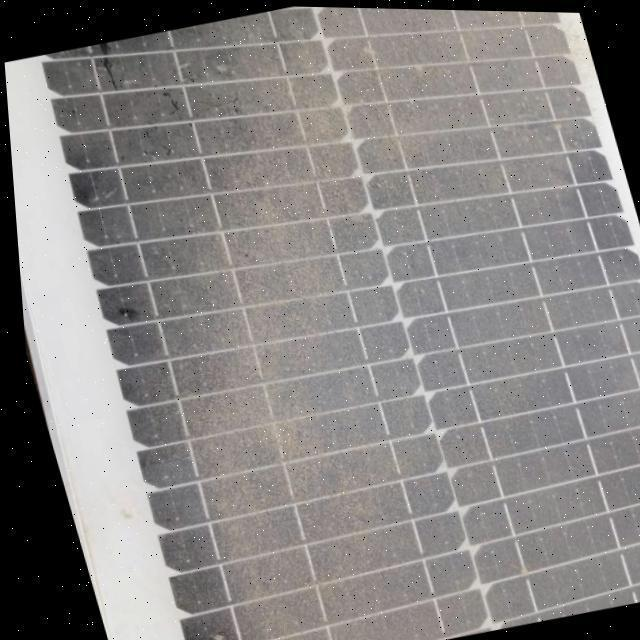Surface Contaminant: (4, 5, 640, 640)
